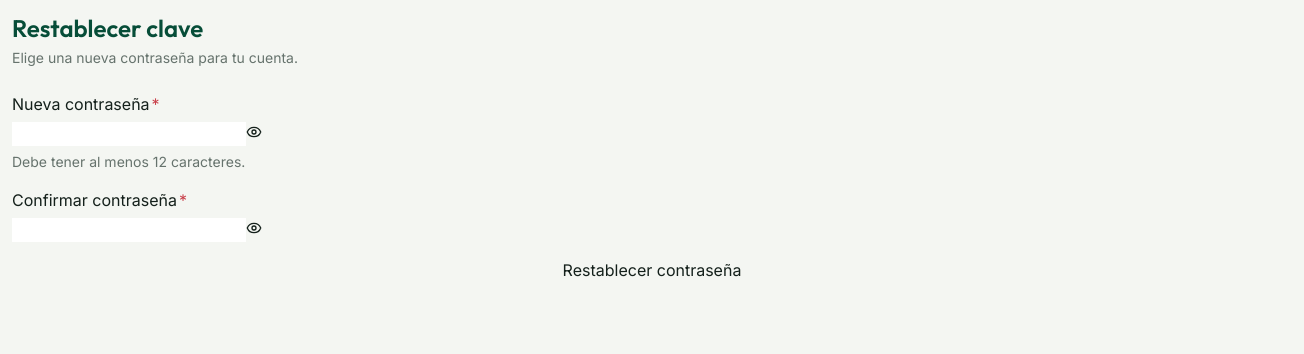
Scenario: ResetPasswordPage › shows a safe message for an invalid or expired token
Check: the heading "Restablecer clave" is shown, box [12,13,203,43]
In the password field labelled "Nueva contraseña": [129, 134] box [12,122,246,146], type "Strong-Password-99!"
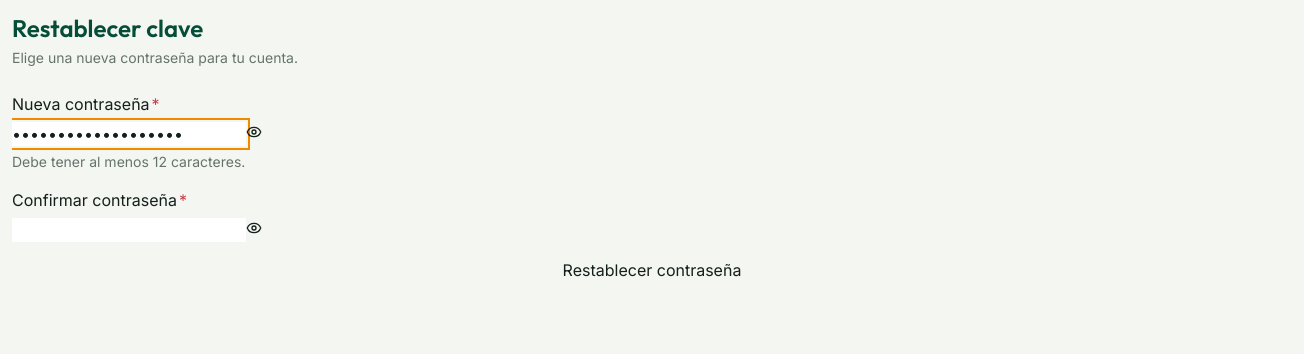
In the password field labelled "Confirmar contraseña": [129, 230] box [12,218,246,242], type "Strong-Password-99!"
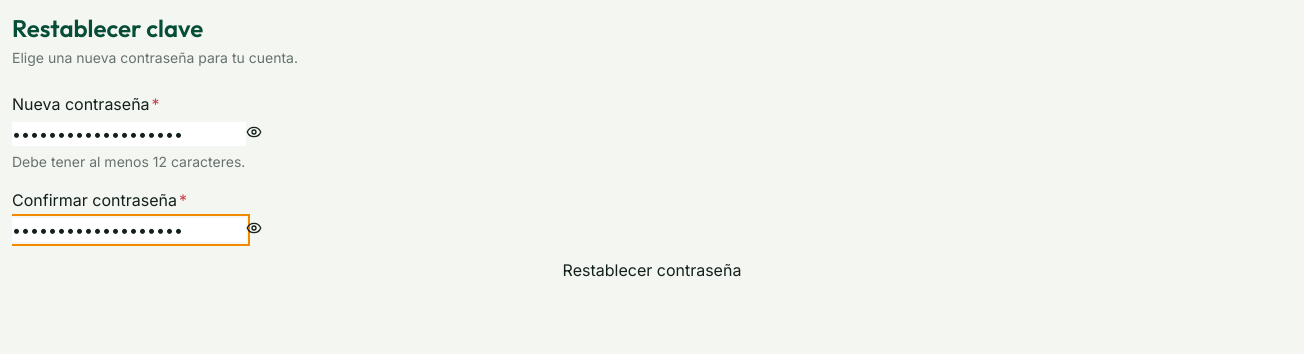
Click the button "Restablecer contraseña": [652, 270] box [12,258,1292,282]
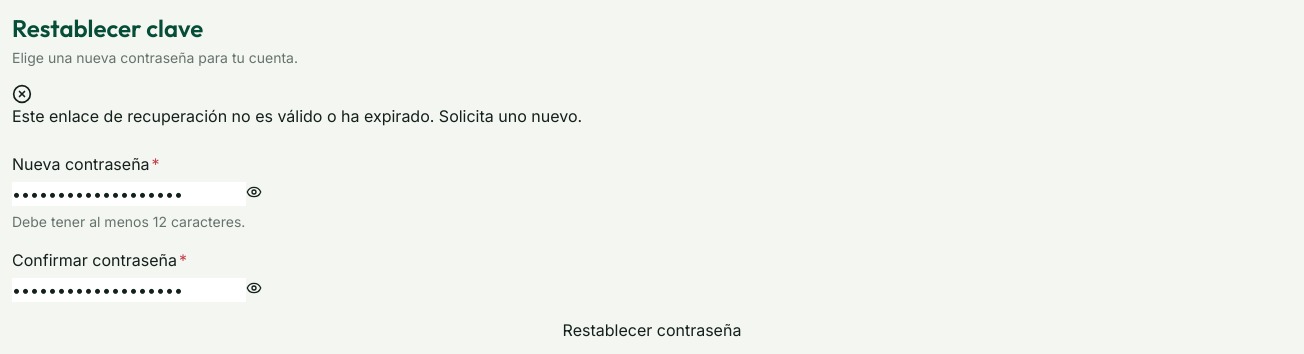
Check: the message shows "no es válido o ha expirado", box [12,106,582,126]
